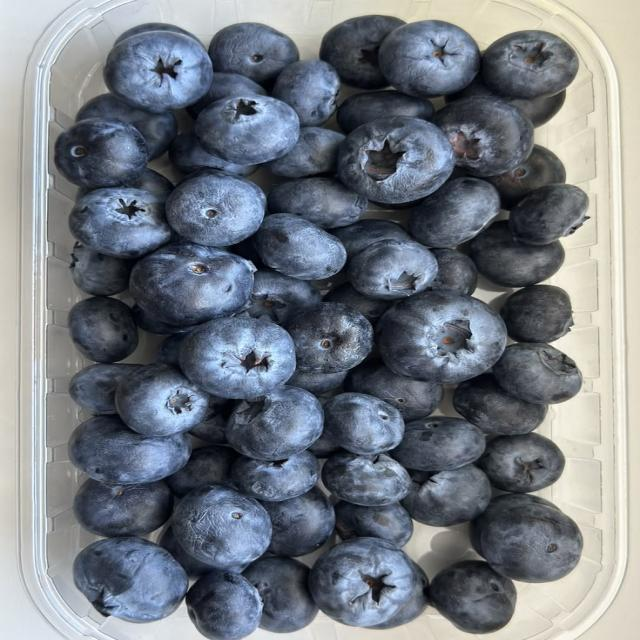blueberry: (377, 291, 506, 382), (130, 243, 255, 325), (337, 117, 455, 203), (74, 537, 188, 622), (310, 538, 417, 626), (181, 319, 296, 398), (104, 32, 212, 113), (477, 501, 583, 582), (69, 416, 190, 484), (172, 485, 271, 568), (433, 97, 533, 177), (166, 171, 266, 247), (379, 21, 479, 97), (226, 386, 323, 461), (196, 94, 299, 164), (69, 188, 172, 258), (115, 364, 208, 437), (76, 94, 177, 159), (54, 119, 148, 188), (481, 31, 579, 97), (445, 74, 565, 127), (470, 221, 565, 287), (430, 561, 516, 633), (285, 303, 373, 373), (253, 213, 346, 279), (320, 16, 404, 89), (411, 178, 499, 247), (344, 361, 443, 421), (74, 479, 173, 537), (453, 374, 547, 435), (243, 557, 318, 633), (209, 22, 299, 85), (470, 493, 560, 555), (402, 465, 491, 526), (493, 343, 582, 404), (347, 240, 437, 299), (477, 433, 565, 492), (391, 416, 485, 471), (186, 571, 262, 639), (485, 145, 565, 209), (261, 488, 335, 557), (324, 393, 404, 455), (269, 178, 367, 228), (509, 184, 588, 245), (322, 453, 410, 505), (68, 297, 138, 362), (272, 61, 340, 126), (231, 451, 319, 501), (337, 91, 434, 134), (246, 269, 321, 324), (501, 285, 572, 343), (368, 563, 429, 629), (266, 127, 344, 178), (169, 132, 257, 176), (187, 72, 267, 119), (167, 445, 238, 497), (69, 364, 139, 414), (335, 501, 412, 546), (70, 242, 133, 296), (332, 219, 410, 259), (324, 282, 394, 326), (158, 527, 214, 578), (432, 248, 478, 295), (189, 395, 233, 444), (115, 22, 199, 45), (132, 305, 196, 335), (123, 168, 174, 201), (287, 370, 347, 394), (228, 238, 265, 269), (156, 332, 186, 367), (308, 432, 343, 459)
